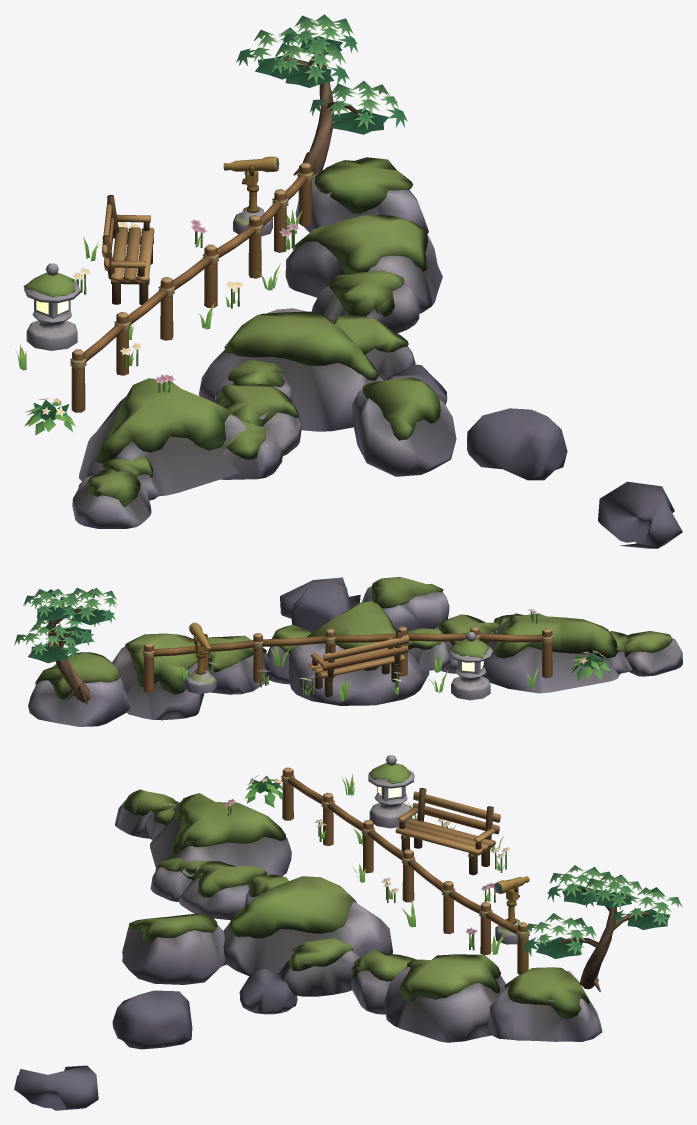
File: poi-seaarch-1.glb
3 views of the same model, one above another, from view 1: azimuth 30°, elevation 25°; view 2: azimuth 150°, elevation 25°; view 3: azimuth 270°, elevation 25° (orthographic). The views are drawn at different scales.
Parts seen in each view (by area): view 1: body, leaf; view 2: body, leaf; view 3: body, leaf.
Boxes of the visible parts, box(x1,y1,x2,y2) form: body: box(23, 55, 682, 548); leaf: box(15, 14, 407, 435); body: box(28, 577, 682, 726); leaf: box(14, 587, 610, 701); body: box(14, 755, 648, 1110); leaf: box(224, 774, 682, 958).
Bounding box in the file's own units: 9.61 × 4.37 × 11.67.
